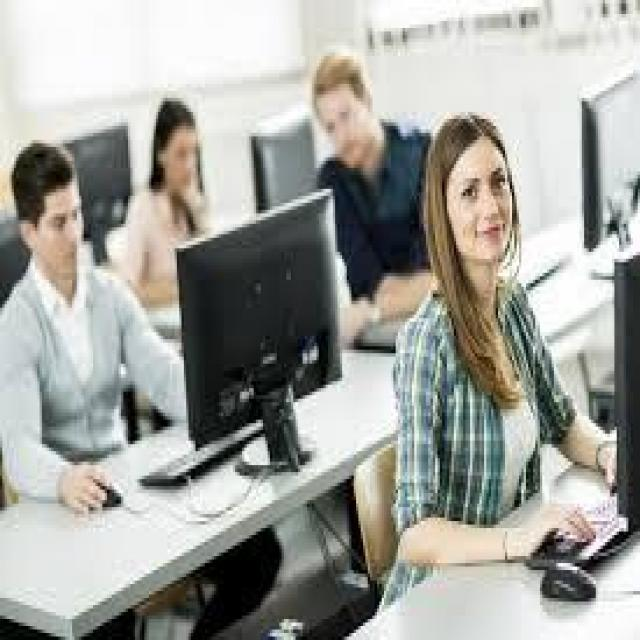person: (375, 105, 605, 584), (0, 119, 205, 518), (289, 14, 449, 301), (107, 66, 233, 340)
